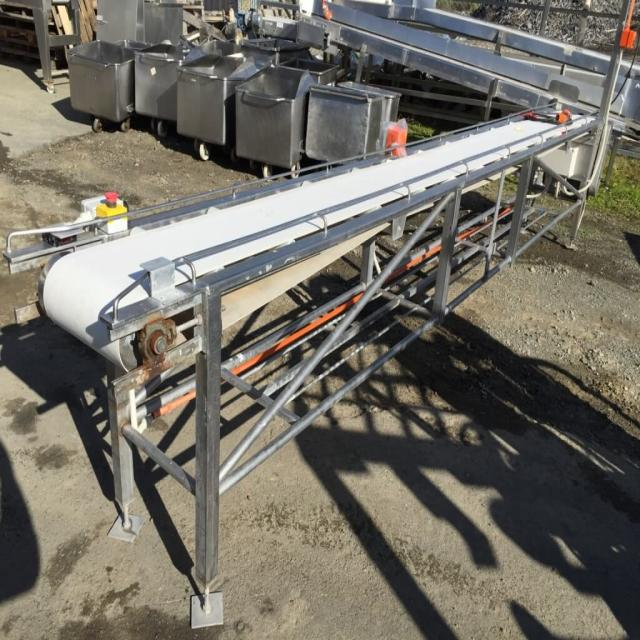conveyor: (51, 89, 620, 474)
